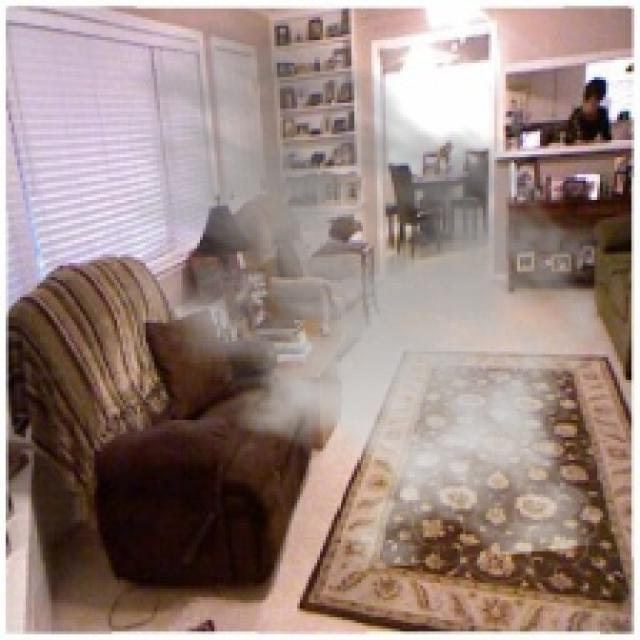Smoke: (71, 14, 634, 572)
